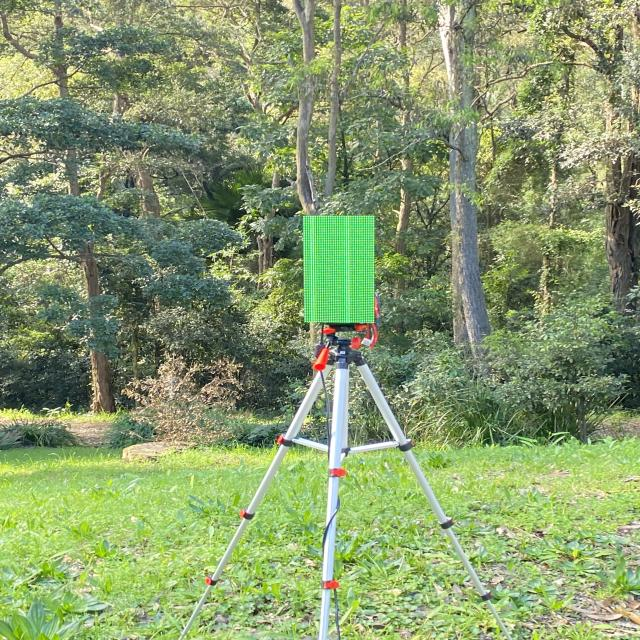matrix: (294, 202, 387, 326)
